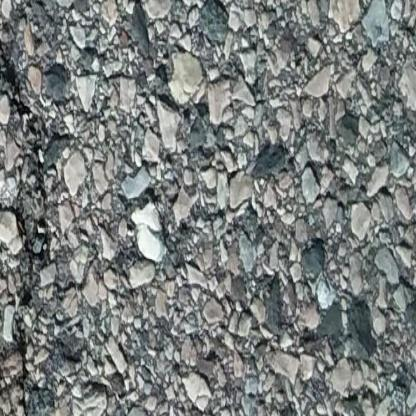Cracks: (0, 3, 76, 416)
